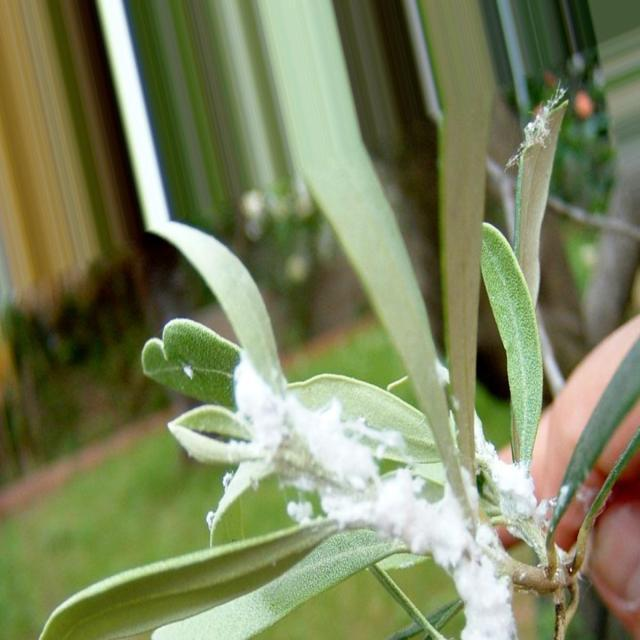Psyllid: (208, 368, 378, 540), (321, 468, 476, 576), (474, 412, 569, 562), (452, 525, 518, 639), (506, 79, 568, 171), (376, 428, 410, 463), (286, 492, 322, 525)
